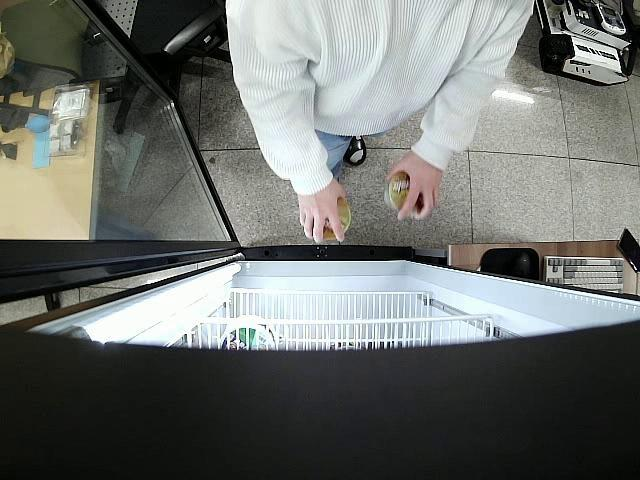04_chapagetti_S: (386, 170, 424, 215), (315, 194, 351, 240)
